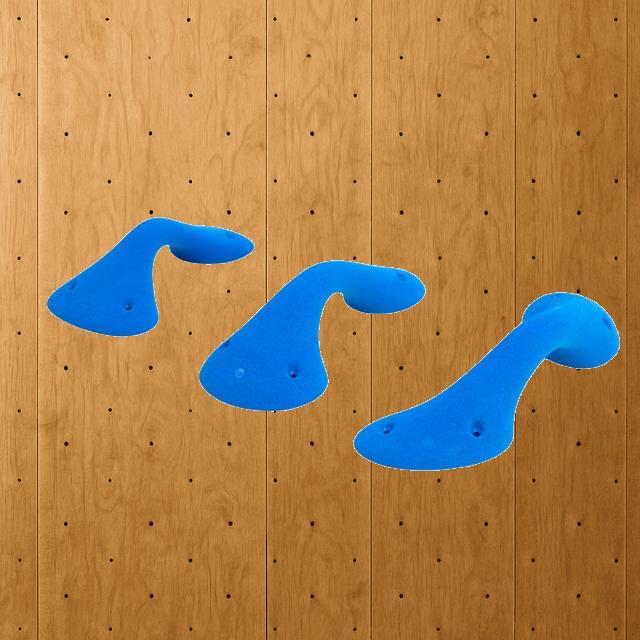Jug: (352, 291, 620, 471), (198, 259, 426, 411), (46, 216, 254, 336)
